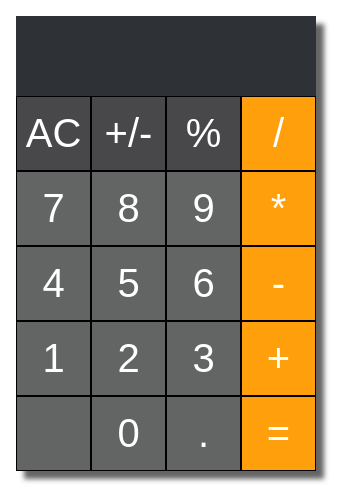
Test case: Calculator render tests › Test if display is updated correctly
This screenshot has width=345, height=500.
What coordinates should you click on to do the following:
click the button "1"
I would click on:
 (54, 358)
Its box is [16,321,91,396].
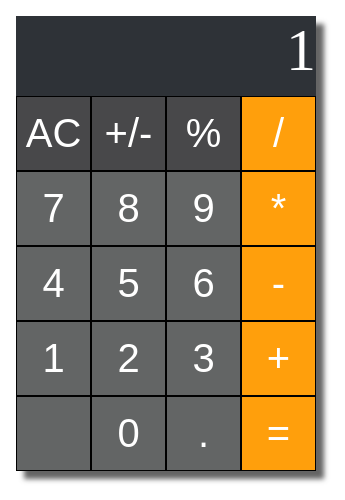
Now the heading with test id "display" reads "1", box [286,17,316,83]
